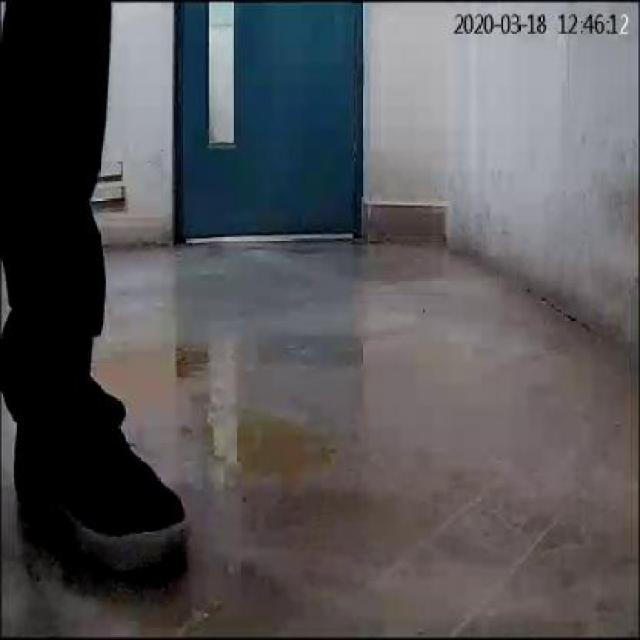spill: (86, 336, 220, 398)
